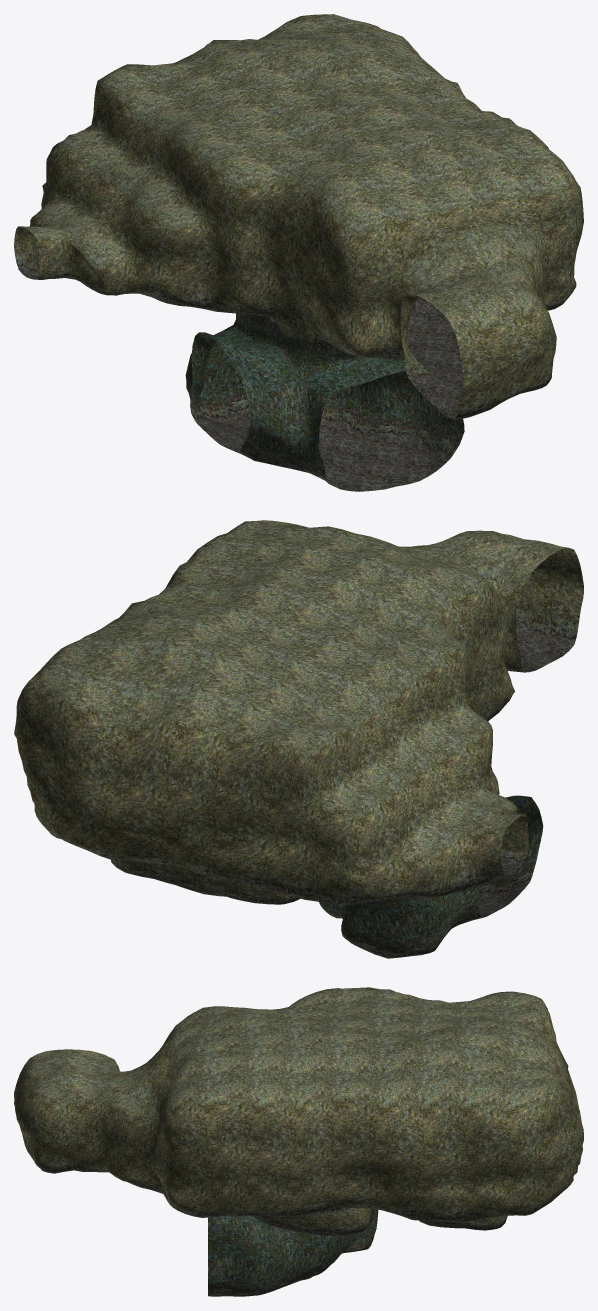
The model's file is thm_all_cave_s01_damprock_mirror_r8_mesh_r8.fbx.
3 renders of one model, top to bottom at view 1: azimuth 30°, elevation 25°; view 2: azimuth 150°, elevation 25°; view 3: azimuth 270°, elevation 25°, orthographic. The views are drawn at different scales.
Parts seen in each view (by area): view 1: mesh_node; view 2: mesh_node; view 3: mesh_node.
Boxes of the visible parts, bbox=[...] form: mesh_node: bbox=[14, 14, 583, 491]; mesh_node: bbox=[14, 520, 583, 958]; mesh_node: bbox=[14, 987, 583, 1296].
Bounding box in the file's own units: 94.34 × 69.23 × 131.
